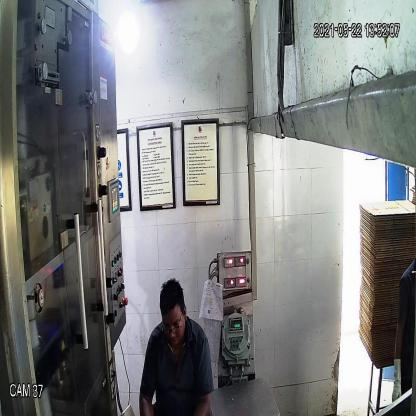goggles: (160, 318, 182, 338)
